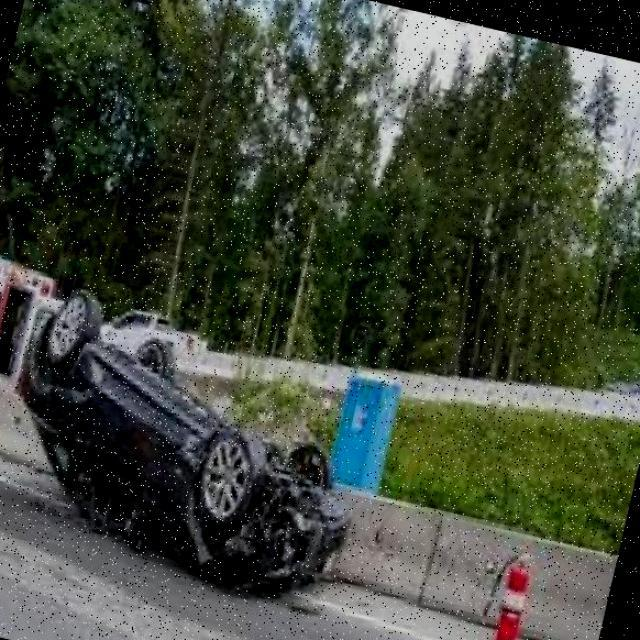accident: (0, 275, 391, 617)
